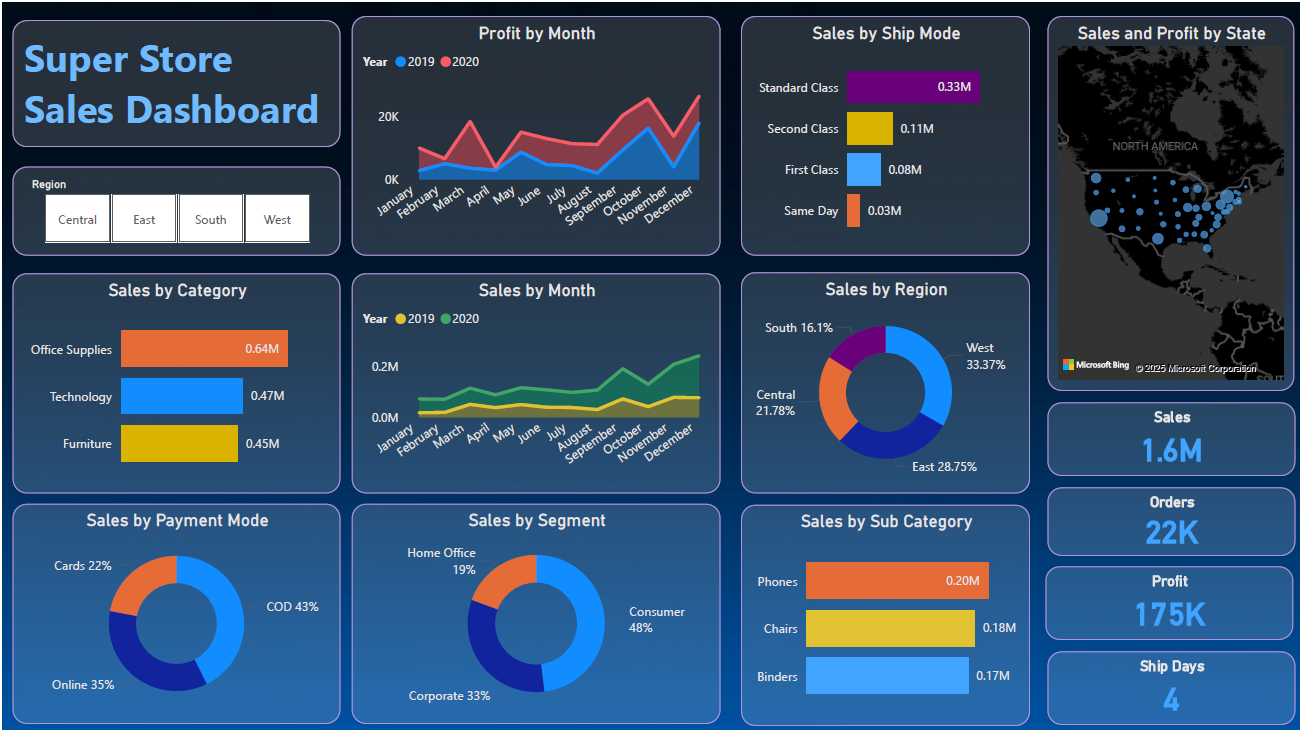

What the dashboard file says about the page in this screenshot:
{"tool":"powerbi","page":{"name":"Page 1","canvas":[1280,720],"ordinal":0},"visuals":[{"type":"clusteredBarChart","title":"Sales by Category","fields":{"Category":["SuperStore_Sales_Dataset.Category"],"Y":["Sum(SuperStore_Sales_Dataset.Sales)"]},"box":[10,264.3,320,214.3],"z":0},{"type":"clusteredBarChart","title":"Sales by Sub Category","fields":{"Y":["Sum(SuperStore_Sales_Dataset.Sales)"],"Category":["SuperStore_Sales_Dataset.Sub-Category"]},"box":[721.4,490,281.4,215.7],"z":1000},{"type":"clusteredBarChart","title":"Sales by Ship Mode","fields":{"Y":["Sum(SuperStore_Sales_Dataset.Sales)"],"Category":["SuperStore_Sales_Dataset.Ship Mode"]},"box":[721.4,12.9,281.4,234.3],"z":2000},{"type":"stackedAreaChart","title":"Sales by Month","fields":{"Y":["Sum(SuperStore_Sales_Dataset.Sales)"],"Category":["SuperStore_Sales_Dataset.Order Date.Variation.Date Hierarchy.Month","SuperStore_Sales_Dataset.Order Date.Variation.Date Hierarchy.Day"],"Series":["SuperStore_Sales_Dataset.Order Date.Variation.Date Hierarchy.Year"]},"box":[341.4,264.3,360,214.3],"z":3000},{"type":"stackedAreaChart","title":"Profit by Month","fields":{"Category":["SuperStore_Sales_Dataset.Order Date.Variation.Date Hierarchy.Month","SuperStore_Sales_Dataset.Order Date.Variation.Date Hierarchy.Day"],"Series":["SuperStore_Sales_Dataset.Order Date.Variation.Date Hierarchy.Year"],"Y":["Sum(SuperStore_Sales_Dataset.Profit)"]},"box":[341.4,12.9,360,234.3],"z":4000},{"type":"map","title":"Sales and Profit by State","fields":{"Category":["SuperStore_Sales_Dataset.State"],"Size":["Sum(SuperStore_Sales_Dataset.Sales)"]},"box":[1020,12.9,241.4,365.7],"z":5000},{"type":"donutChart","title":"Sales by Segment","fields":{"Category":["SuperStore_Sales_Dataset.Segment"],"Y":["Sum(SuperStore_Sales_Dataset.Sales)"]},"box":[341.4,488.6,360,215.7],"z":6000},{"type":"donutChart","title":"Sales by Region","fields":{"Y":["Sum(SuperStore_Sales_Dataset.Sales)"],"Category":["SuperStore_Sales_Dataset.Region"]},"box":[721.4,262.9,281.4,215.7],"z":7000},{"type":"donutChart","title":"Sales by Payment Mode","fields":{"Y":["Sum(SuperStore_Sales_Dataset.Sales)"],"Category":["SuperStore_Sales_Dataset.Payment Mode"]},"box":[10,488.6,320,215.7],"z":8000},{"type":"slicer","fields":{"Values":["SuperStore_Sales_Dataset.Region"]},"box":[10,160,320,87.1],"z":9000},{"type":"textbox","box":[10,17.1,320,124.3],"z":10000},{"type":"card","title":"Sales","fields":{"Values":["Sum(SuperStore_Sales_Dataset.Sales)"]},"box":[1020,390,241.7,71.7],"z":11000},{"type":"card","title":"Orders","fields":{"Values":["Sum(SuperStore_Sales_Dataset.Quantity)"]},"box":[1020,473.3,241.7,66.7],"z":12000},{"type":"card","title":"Profit","fields":{"Values":["Sum(SuperStore_Sales_Dataset.Profit)"]},"box":[1018.3,550,241.7,71.7],"z":13000},{"type":"card","title":"Ship Days","fields":{"Values":["Avg(SuperStore_Sales_Dataset.AvgDelivery)"]},"box":[1020,633.3,241.7,71.7],"z":14000}]}

Visuals, with their boxes in screenshot pixels (x1, y1, x2, y2), scaled from the page's 1280x720 canvas onto the 1300x730 screenshot:
"Sales by Category" clusteredBarChart: [10,268,335,485]
"Sales by Sub Category" clusteredBarChart: [733,497,1018,716]
"Sales by Ship Mode" clusteredBarChart: [733,13,1018,251]
"Sales by Month" stackedAreaChart: [347,268,712,485]
"Profit by Month" stackedAreaChart: [347,13,712,251]
"Sales and Profit by State" map: [1036,13,1281,384]
"Sales by Segment" donutChart: [347,495,712,714]
"Sales by Region" donutChart: [733,267,1018,485]
"Sales by Payment Mode" donutChart: [10,495,335,714]
slicer - SuperStore_Sales_Dataset.Region: [10,162,335,251]
textbox: [10,17,335,143]
"Sales" card: [1036,395,1281,468]
"Orders" card: [1036,480,1281,548]
"Profit" card: [1034,558,1280,630]
"Ship Days" card: [1036,642,1281,715]
